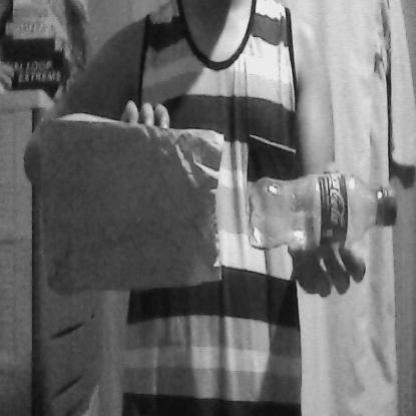Plastic Bottle: (243, 162, 402, 266)
